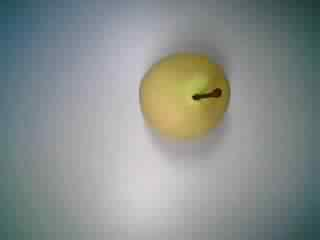pear: (132, 46, 237, 144)
